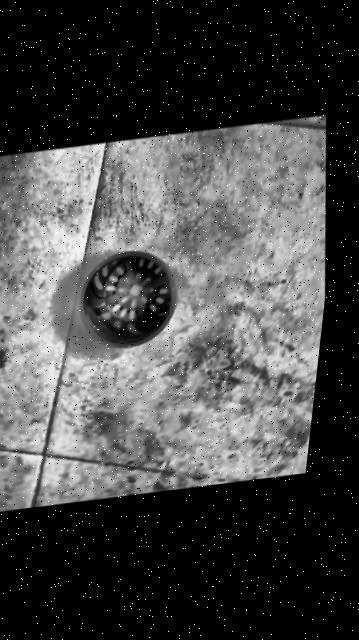pot: (68, 245, 184, 354)
